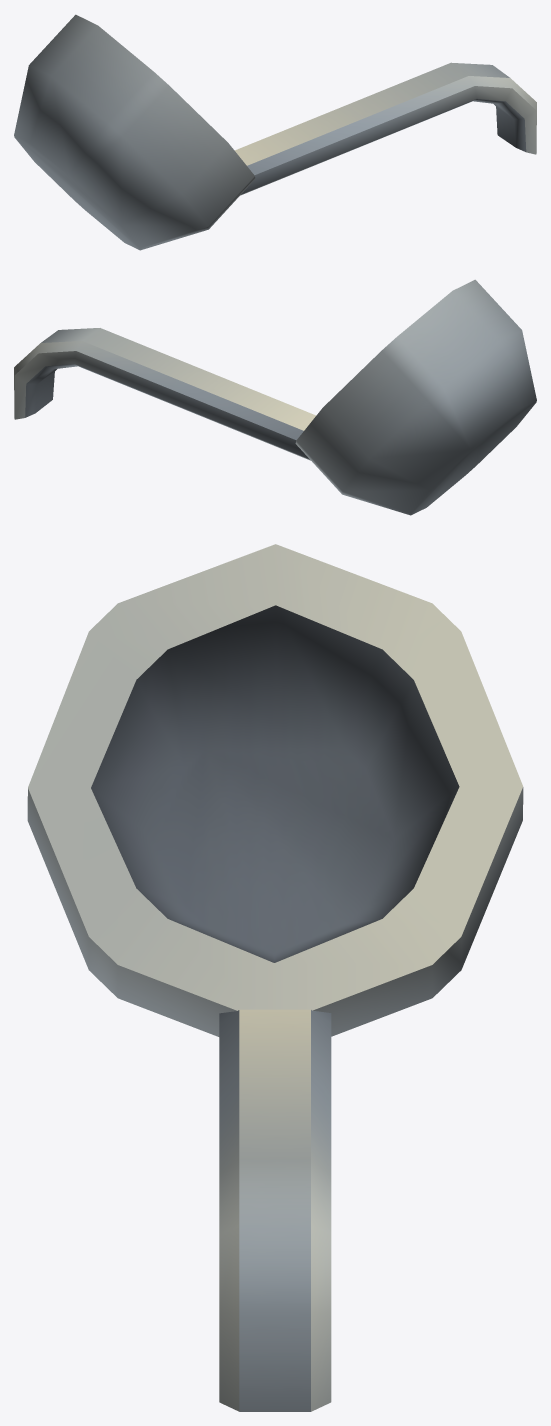
The model's file is laddle_lying_back.fbx.
The picture shows the model from 3 angles, top to bottom: view 1: azimuth 30°, elevation 25°; view 2: azimuth 150°, elevation 25°; view 3: azimuth 270°, elevation 25°; orthographic projection. The views are drawn at different scales.
Visible parts, largest first — view 1: laddle_lying_back; view 2: laddle_lying_back; view 3: laddle_lying_back.
Part boxes in pixels (x1=…): laddle_lying_back: x1=14, y1=14, x2=536, y2=250; laddle_lying_back: x1=14, y1=279, x2=536, y2=515; laddle_lying_back: x1=27, y1=544, x2=523, y2=1411.
Bounding box in the file's own units: 44.03 × 18.96 × 18.97.
